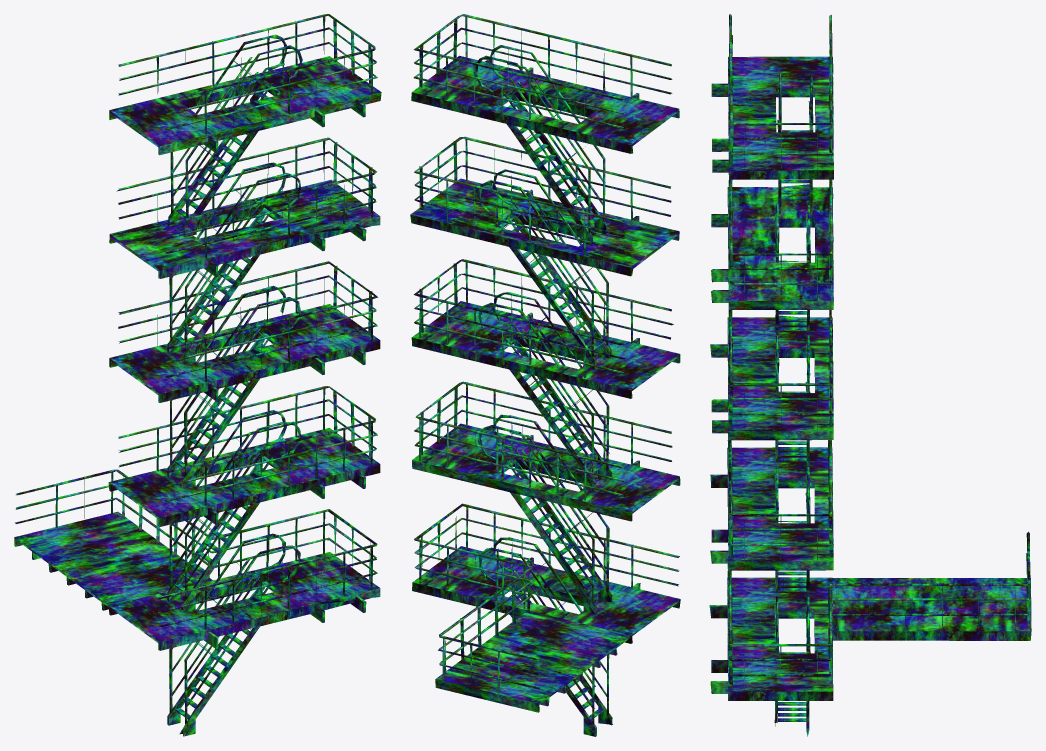
File: SM_CaptainStairsBack.fbx
The picture shows the model from 3 angles, left to right: view 1: azimuth 30°, elevation 25°; view 2: azimuth 150°, elevation 25°; view 3: azimuth 270°, elevation 25°; orthographic projection. The views are drawn at different scales.
Parts seen in each view (by area): view 1: SM_CaptainStairsBack_LOD0; view 2: SM_CaptainStairsBack_LOD0; view 3: SM_CaptainStairsBack_LOD0.
Boxes of the visible parts, bbox=[...] form: SM_CaptainStairsBack_LOD0: bbox=[14, 14, 381, 736]; SM_CaptainStairsBack_LOD0: bbox=[410, 14, 680, 736]; SM_CaptainStairsBack_LOD0: bbox=[709, 14, 1031, 736].
Size of the model in its own units: 326 by 385 by 921.
Materials: 1 (1 with a texture image).
